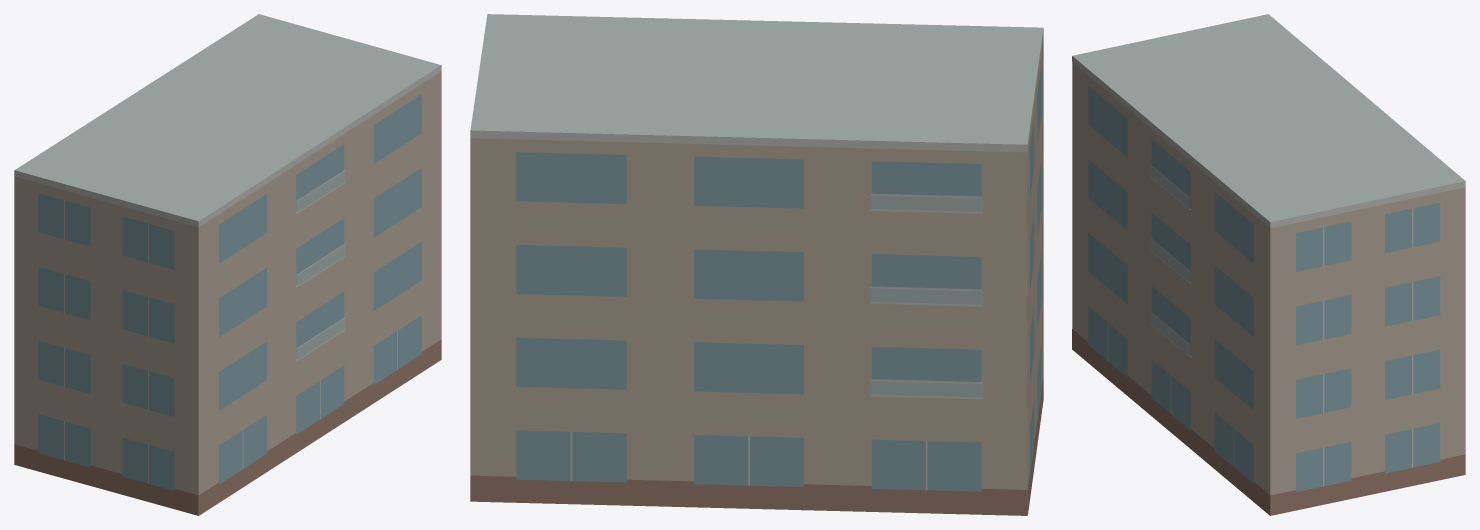
File: survey-upis-32740652.glb
The picture shows the model from 3 angles, left to right: view 1: azimuth 30°, elevation 25°; view 2: azimuth 150°, elevation 25°; view 3: azimuth 270°, elevation 25°; orthographic projection. The views are drawn at different scales.
Parts seen in each view (by area): view 1: survey-upis-32740652.tmp; view 2: survey-upis-32740652.tmp; view 3: survey-upis-32740652.tmp.
Part boxes in pixels (<box>): survey-upis-32740652.tmp: <box>14,14,441,515</box>; survey-upis-32740652.tmp: <box>470,14,1043,515</box>; survey-upis-32740652.tmp: <box>1072,14,1465,515</box>.
Size of the model in its own units: 17.8 by 11.7 by 14.22.
